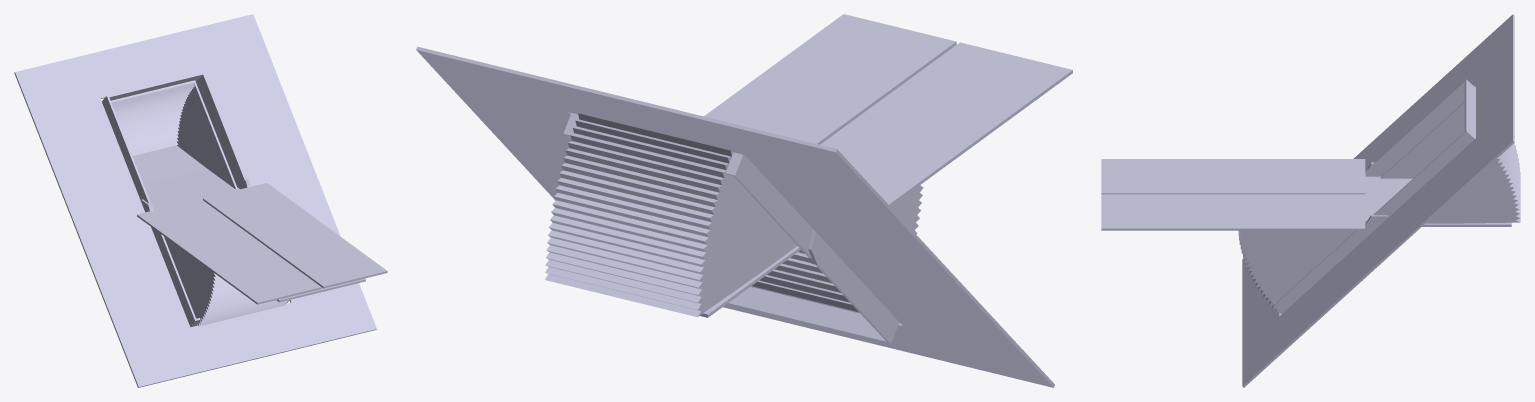
Rendered from LSPan07.glb.
3 views of the same model, side by side, from view 1: azimuth 30°, elevation 25°; view 2: azimuth 150°, elevation 25°; view 3: azimuth 270°, elevation 25° (orthographic). The views are drawn at different scales.
Parts seen in each view (by area): view 1: copy_Body021, copy_LinkGroup004, copy_Body022, copy_Body016, copy_Body, copy_Body017, copy_Body023, copy_LinkGroup003; view 2: copy_Body021, copy_Body022, copy_LinkGroup004, copy_Body, copy_Body017, copy_Body016, copy_Body023, copy_LinkGroup003; view 3: copy_Body021, copy_LinkGroup004, copy_Body016, copy_Body022, copy_Body, copy_Body023, copy_Body017, copy_LinkGroup003.
Part boxes in pixels (x1,y1,x2,y2): copy_Body021: (14, 14, 376, 387); copy_LinkGroup004: (170, 188, 365, 302); copy_Body022: (111, 80, 237, 189); copy_Body016: (244, 183, 387, 283); copy_Body: (102, 72, 289, 327); copy_Body017: (137, 206, 299, 304); copy_Body023: (164, 236, 288, 326); copy_LinkGroup003: (143, 168, 239, 210); copy_Body021: (416, 46, 1054, 387); copy_Body022: (545, 113, 797, 317); copy_LinkGroup004: (742, 23, 1034, 182); copy_Body: (563, 113, 899, 343); copy_Body017: (851, 54, 1072, 206); copy_Body016: (704, 14, 916, 125); copy_Body023: (751, 185, 923, 313); copy_LinkGroup003: (700, 246, 800, 317); copy_Body021: (1242, 14, 1514, 387); copy_LinkGroup004: (1101, 170, 1365, 221); copy_Body016: (1101, 206, 1365, 230); copy_Body022: (1380, 101, 1520, 223); copy_Body: (1273, 79, 1475, 314); copy_Body023: (1238, 230, 1355, 311); copy_Body017: (1101, 159, 1365, 170); copy_LinkGroup003: (1365, 176, 1511, 226).
Bounding box in the file's own units: 1.68 × 1.52 × 2.34.
